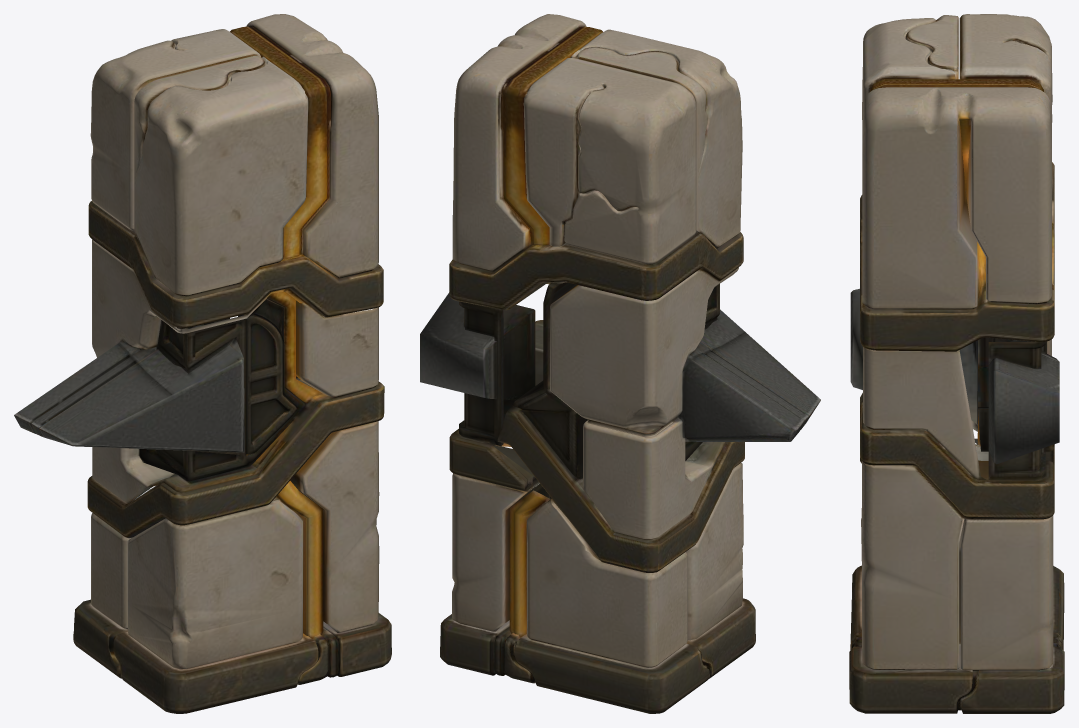
The model's file is intervened-claim.glb.
3 views of the same model, side by side, from view 1: azimuth 30°, elevation 25°; view 2: azimuth 150°, elevation 25°; view 3: azimuth 270°, elevation 25° (orthographic). The views are drawn at different scales.
Parts seen in each view (by area): view 1: tripo_96568097_7128_4fed_b4a7_bdaf8a8c1ce0; view 2: tripo_96568097_7128_4fed_b4a7_bdaf8a8c1ce0; view 3: tripo_96568097_7128_4fed_b4a7_bdaf8a8c1ce0.
Boxes of the visible parts, bbox=[...] form: tripo_96568097_7128_4fed_b4a7_bdaf8a8c1ce0: bbox=[14, 14, 391, 713]; tripo_96568097_7128_4fed_b4a7_bdaf8a8c1ce0: bbox=[420, 14, 820, 713]; tripo_96568097_7128_4fed_b4a7_bdaf8a8c1ce0: bbox=[849, 14, 1064, 713].
Size of the model in its own units: 0.5952 by 0.9995 by 0.3218.
1 material, 1 textured.
